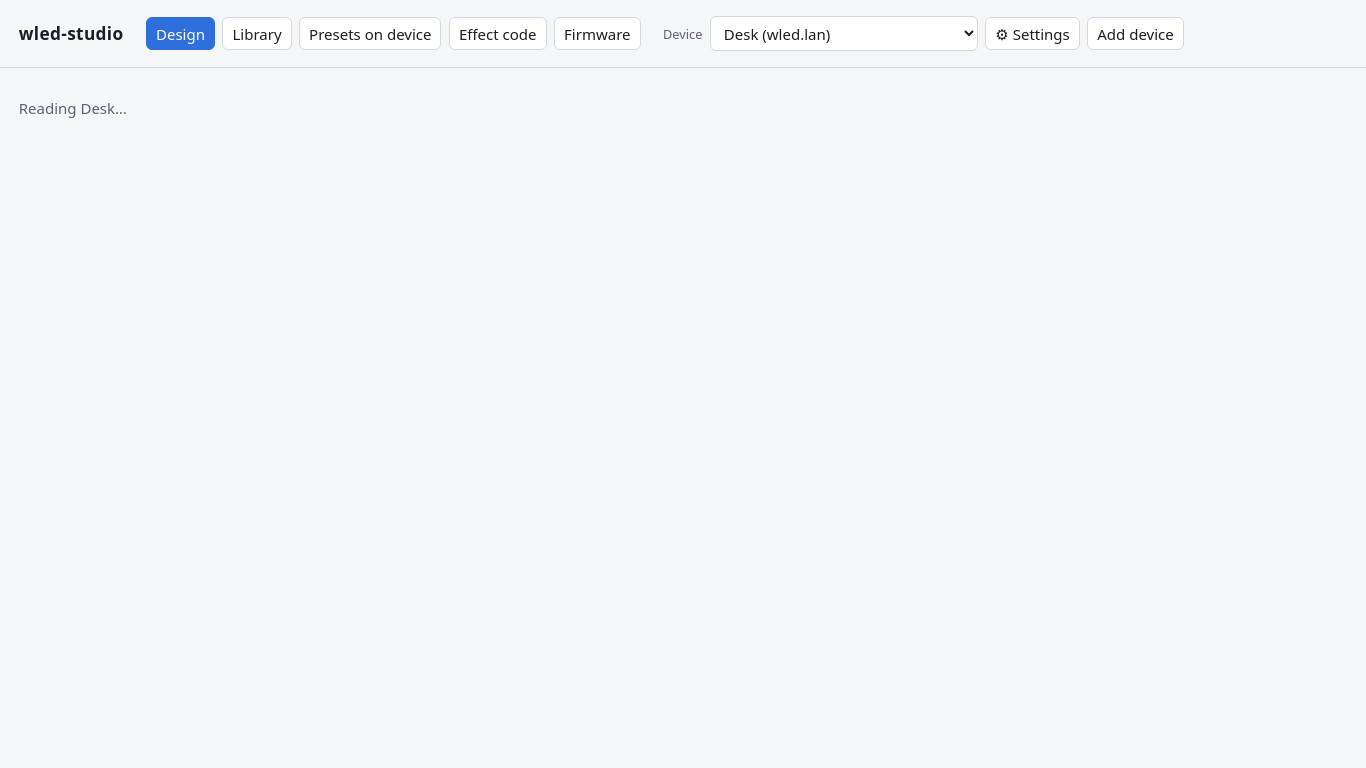
Test case: one device picker in the header for every view, remembered across reloads
Later steps or results of the test are not shown.
Select "Twin · virtual (no LEDs) (twin.lan)" in the dropdown labelled "Device". click: (844, 34)
box: [710,16,978,51]
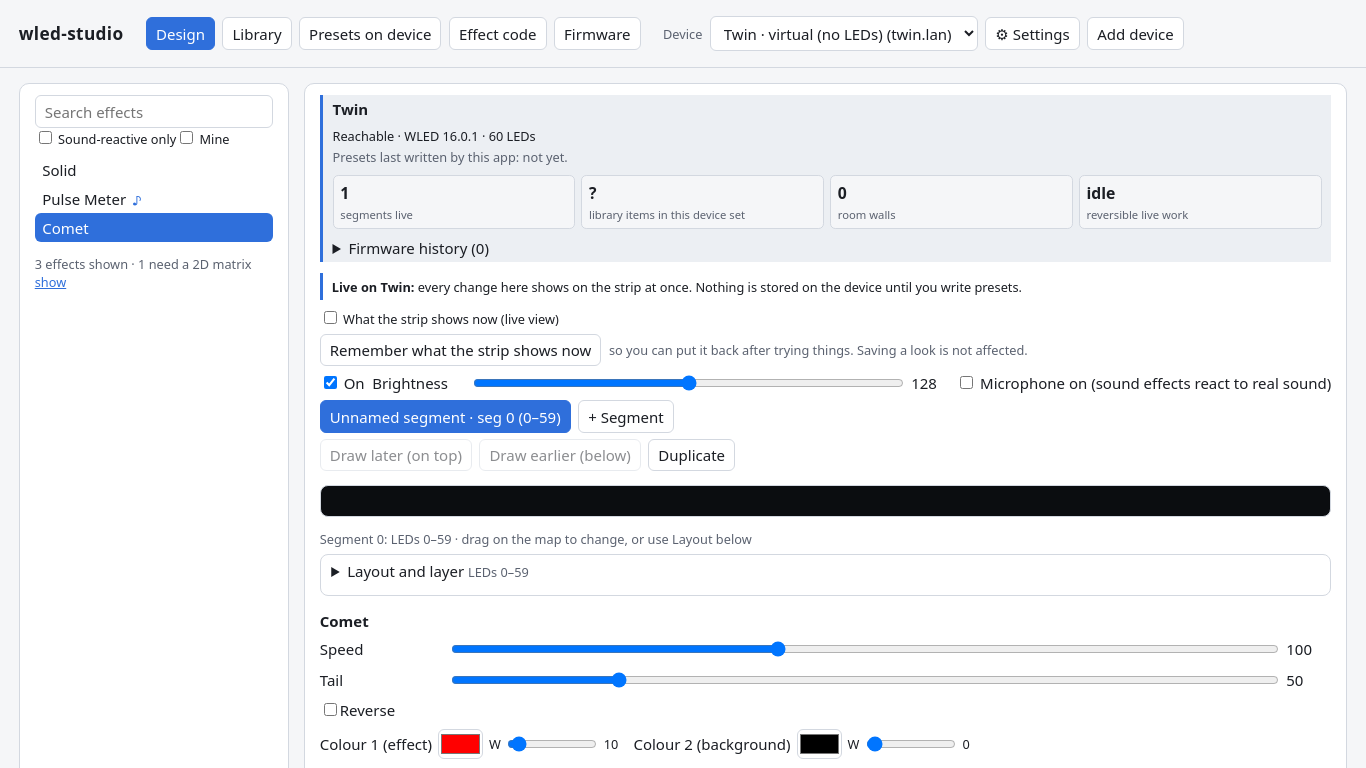
Now the text "Live on Twin" is shown, box [332,278,411,296]
